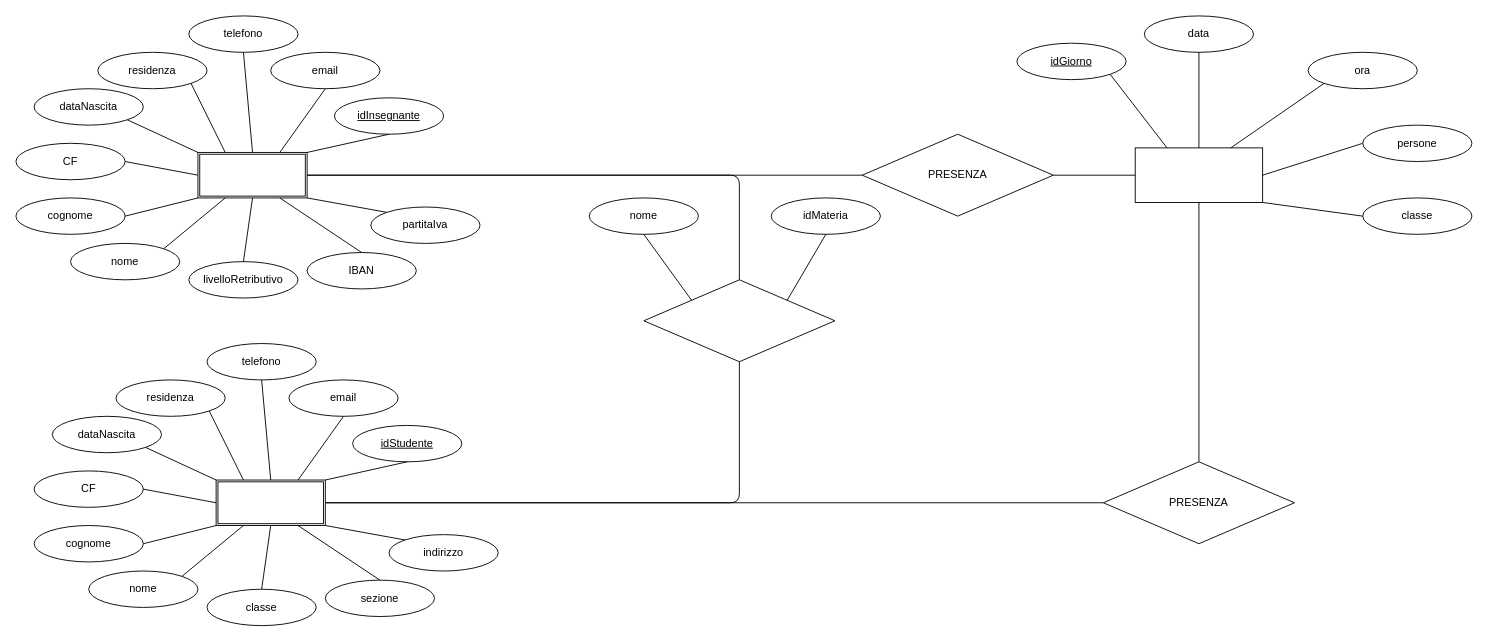
The diagram is 1488 pixels wide and 642 high, and some of its shapes have lost their labels. Each missing label, with the centre of its shape:
"CALENDARIO" goes at (x=1198, y=174).
"INSEGNANTI" goes at (x=252, y=175).
"MATERIA" goes at (x=739, y=320).
"STUDENTE" goes at (x=270, y=502).
